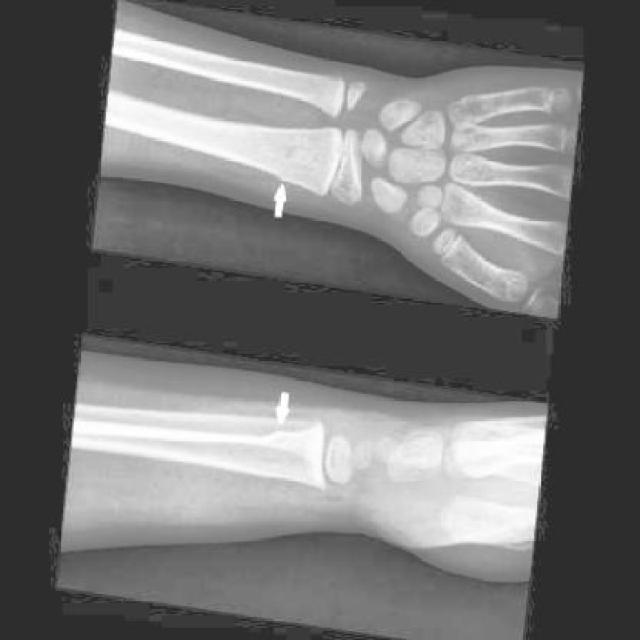Fracture: (269, 123, 306, 188), (257, 426, 296, 484)
